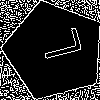L: (29, 26, 83, 65)
